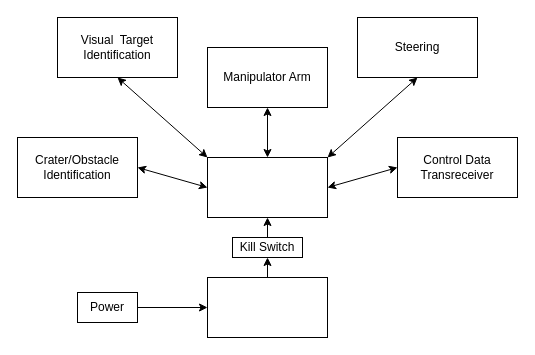
Image size: 535x355. Some labels were removed from this diagram. The centre of each missing label's shape, as x and y in pixels:
Emergency Detection and Management System [EDaMS]: the point at 267,307
Main Control & Navigation: the point at 267,187
